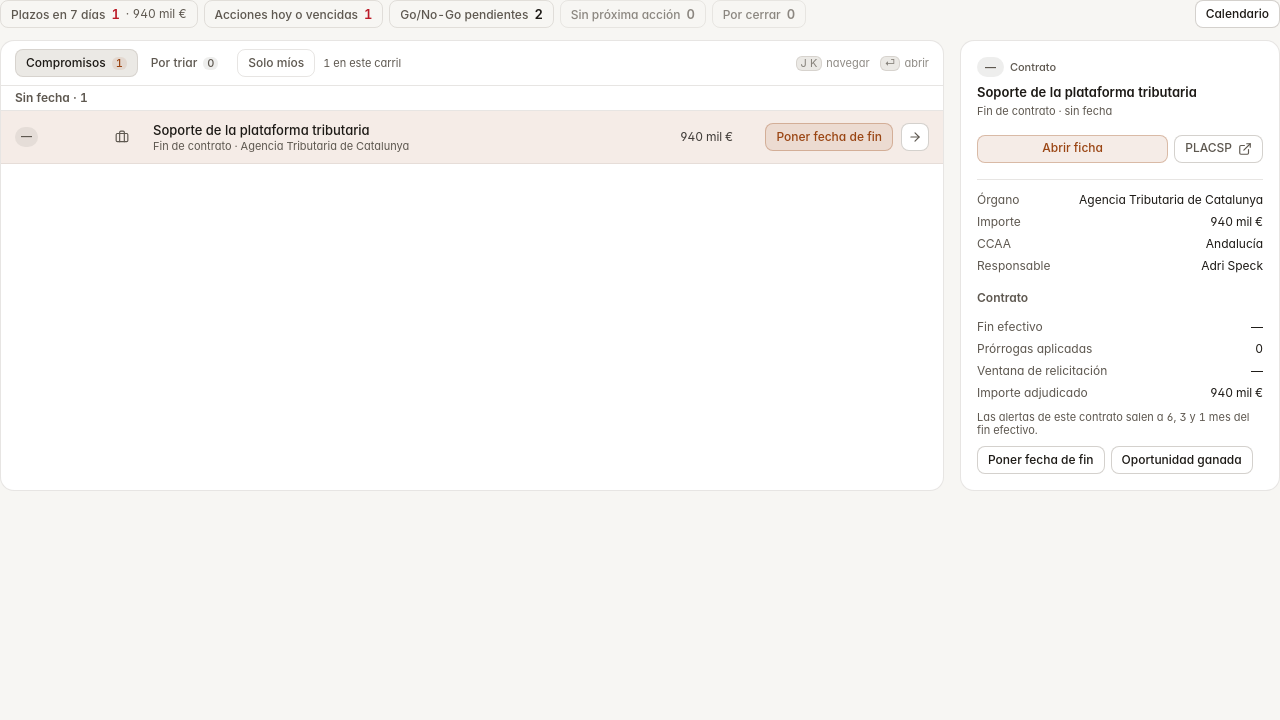
AgendaView — contrato sin fecha de fin › sin fecha no hay nada que guardar
Click the button "Poner fecha de fin" below "J K" at (829, 137), box [765,123,893,151]
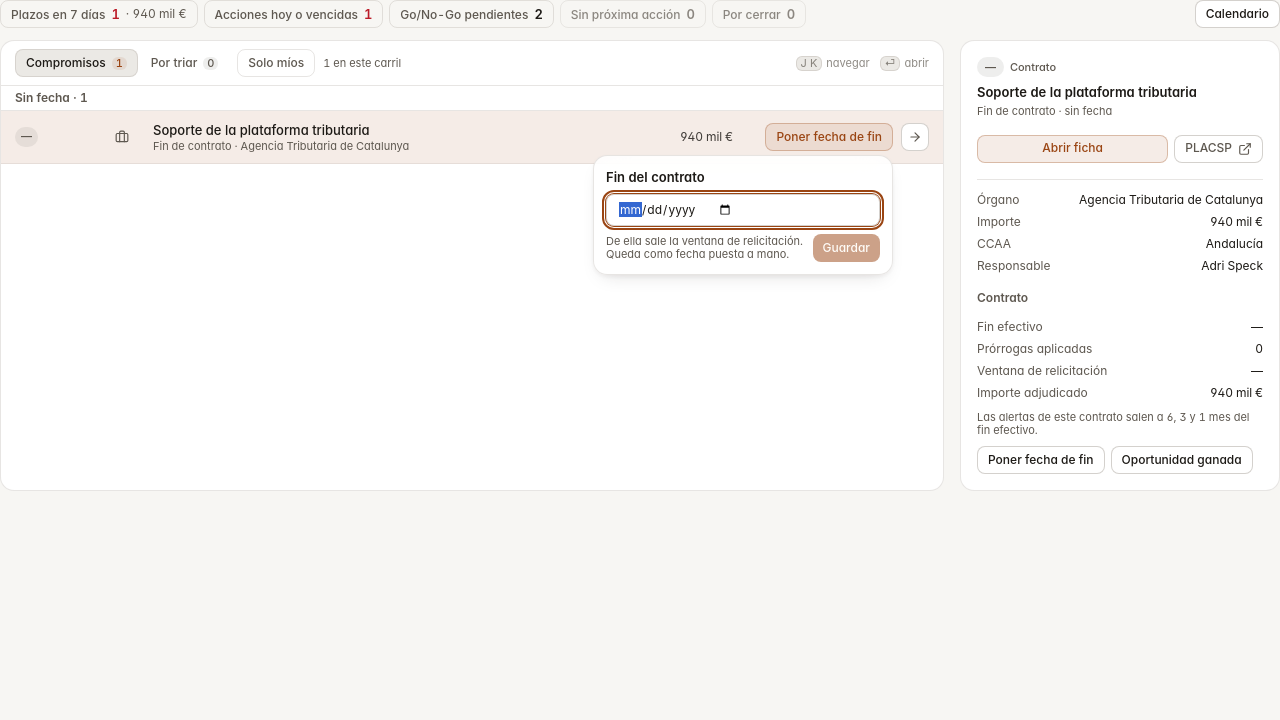
Expected: the button "Guardar" is disabled, [812,234,880,262]
